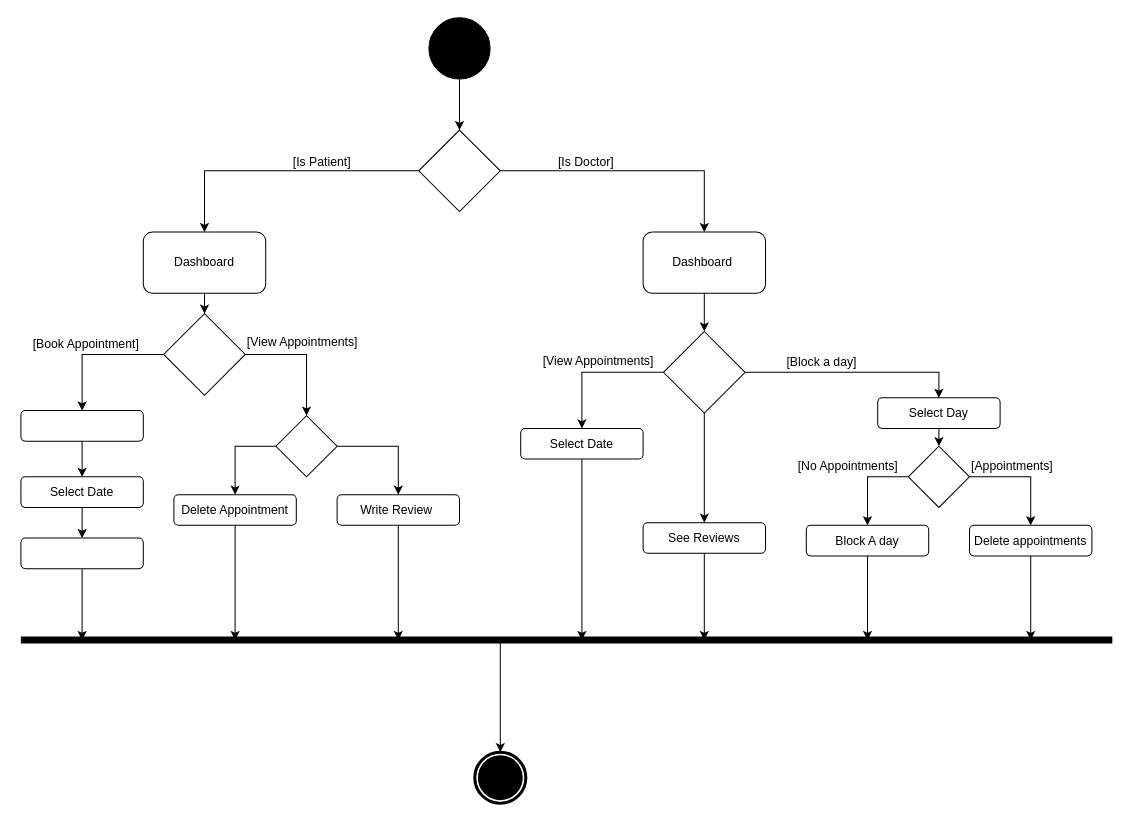
Image size: 1134x821. Some labels were removed from this diagram. The shapes that lost their labels are listed below. From the top down, each one's centre as x and y in pixels, then its label:
[81,425]: Select Doctor
[81,553]: Selec Time
